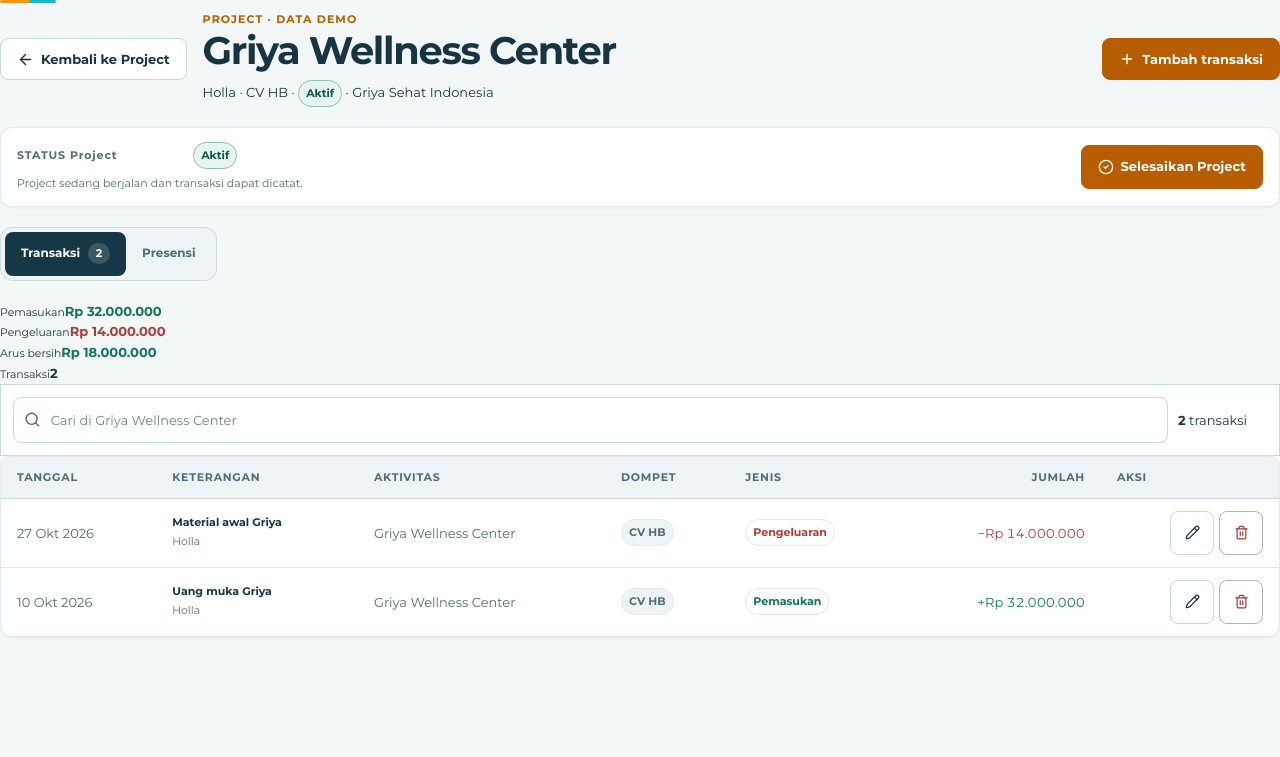
Scenario: project presensi detail › retries a failed request in context without reloading the page
What coordinates should you click on to do the following:
click the tab "Presensi"
I would click on:
 (169, 254)
Its box is [126, 232, 212, 276].
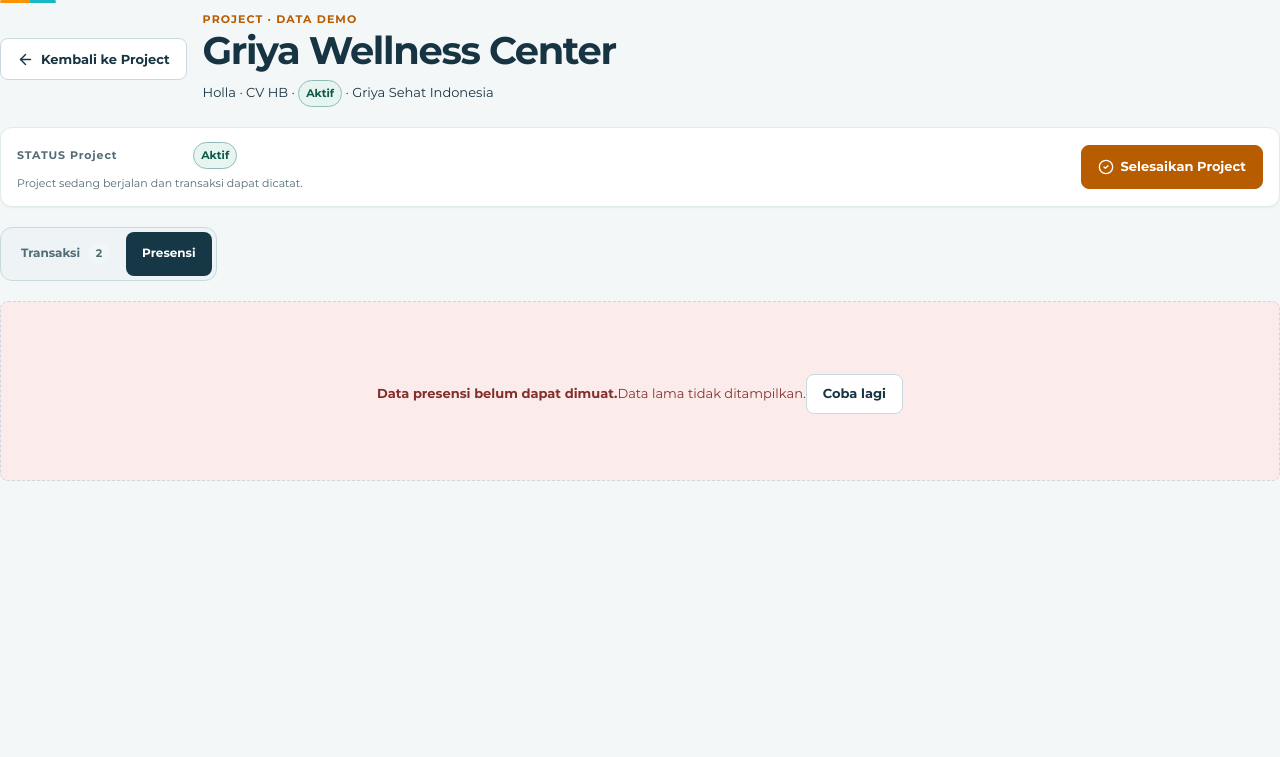
Check: the text "Data presensi belum dapat dimuat." is shown, box [377, 385, 617, 401]
What coordinates should you click on to do the following:
click the button "Coba lagi"
I would click on:
 (854, 394)
Its box is [806, 374, 903, 414].
(page scrolled)
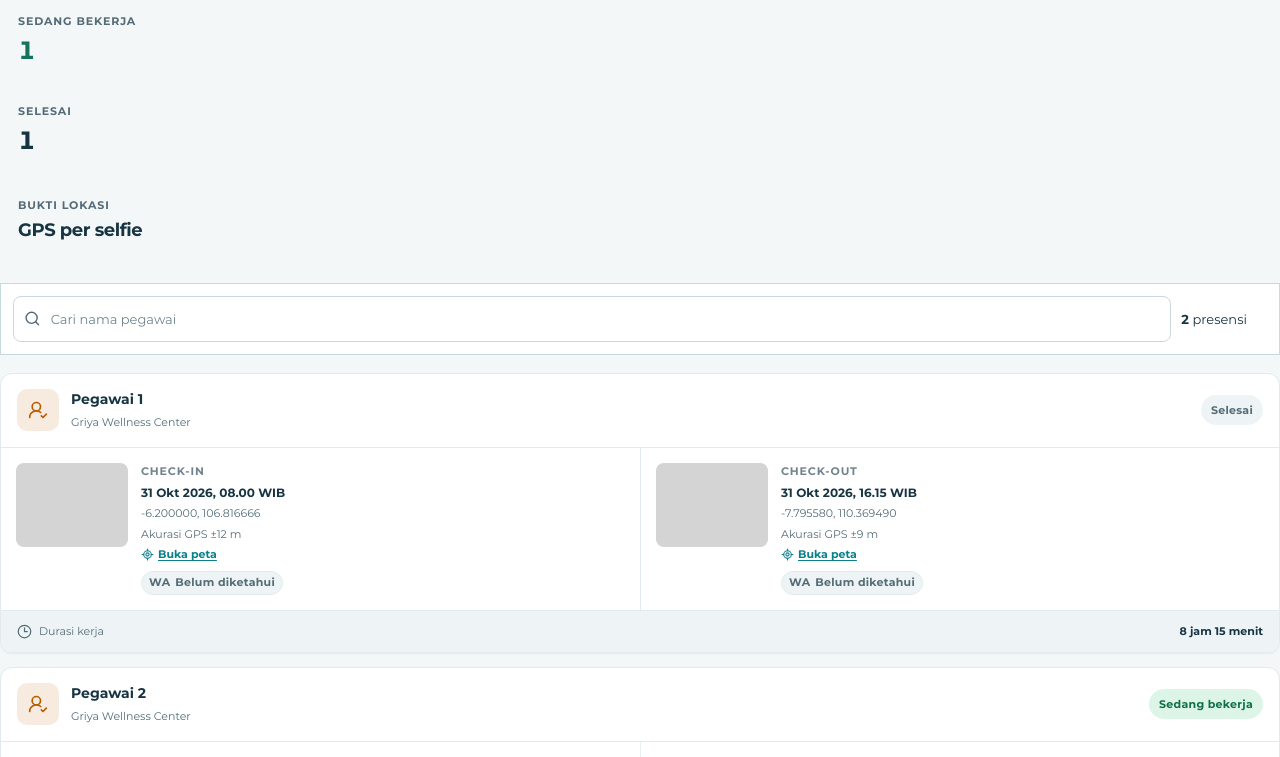
Check: the text "Pegawai 1" is shown, box [71, 390, 143, 408]
